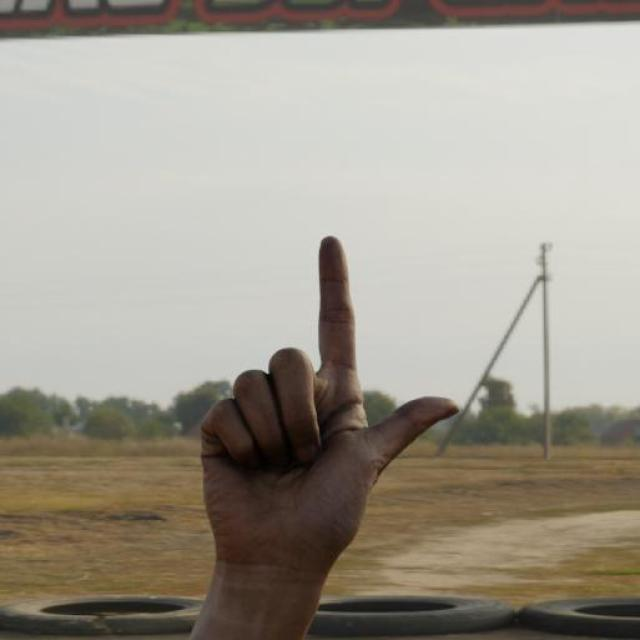L: (198, 233, 462, 543)
